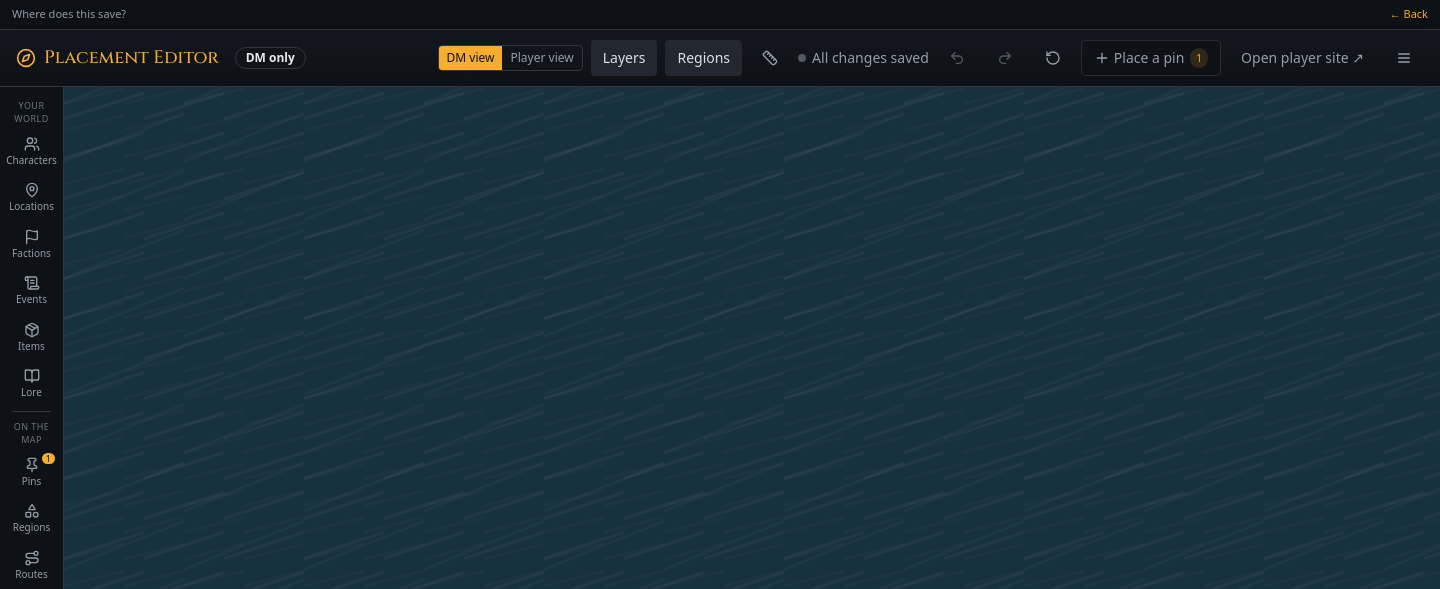
it: AtlasPlacementEditor unplaced entities › offers the entities that have no placement yet
The image size is (1440, 589).
expect the text "All changes saved" is shown: met, box [812,48,929,68]
What coordinates should you click on to do the following:
click the button "Place a pin 1"
I would click on:
 (1151, 58)
Its box is [1081,40,1221,76].
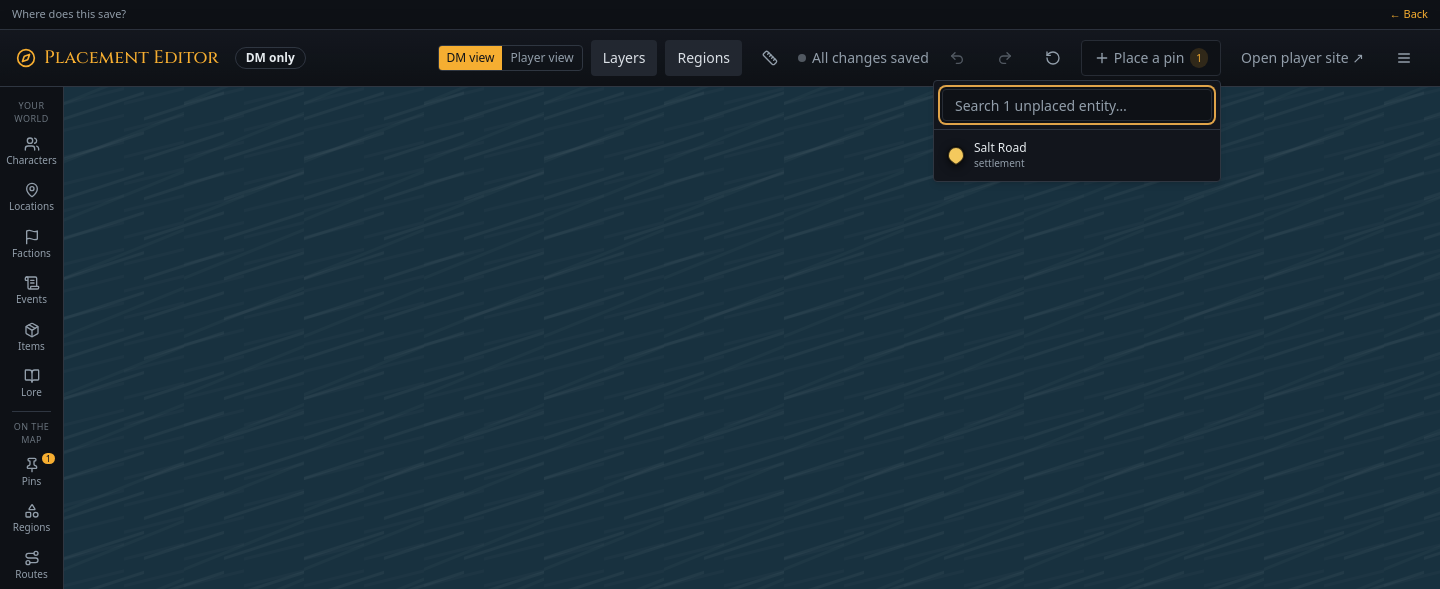
expect the text "Salt Road" is shown: met, box [974,139,1027,156]
